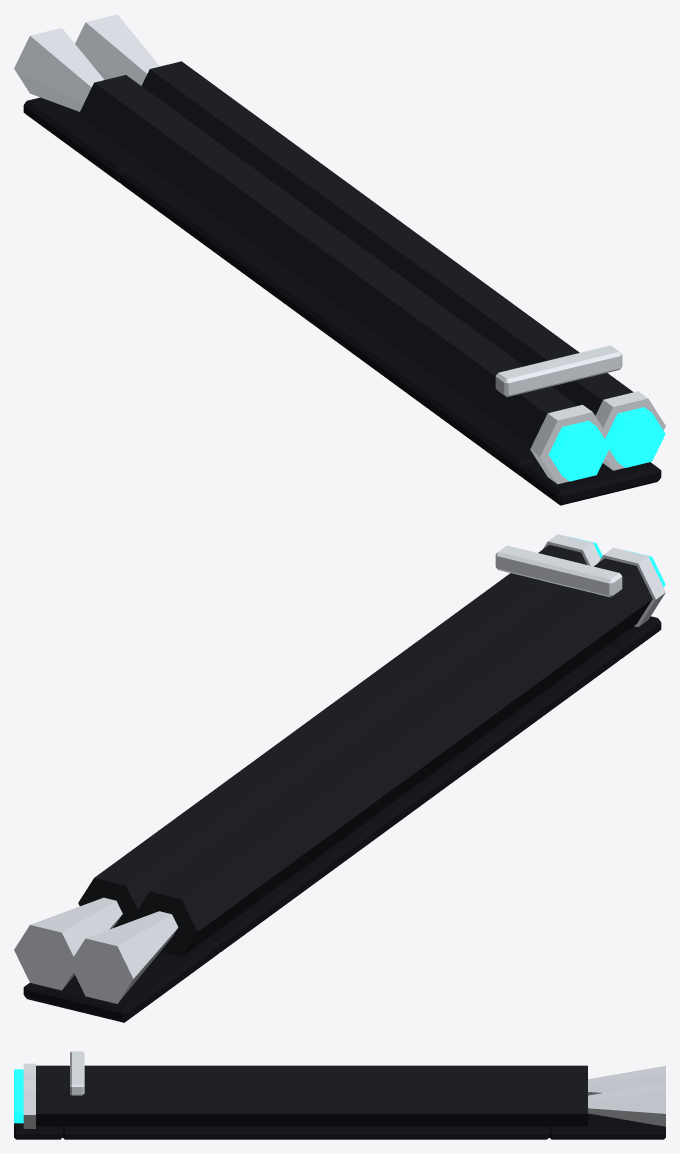
The model's file is rocket_twin.glb.
3 views of the same model, one above another, from view 1: azimuth 30°, elevation 25°; view 2: azimuth 150°, elevation 25°; view 3: azimuth 270°, elevation 25° (orthographic). The views are drawn at different scales.
Parts seen in each view (by area): view 1: rocket_twin_MID_deco_body, rocket_twin_MID_deco_trim, rocket_twin_TAIL_chrome, rocket_twin_HEAD_deco_neon, rocket_twin_TAIL_deco_body, rocket_twin_HEAD_chrome, rocket_twin_MID_chrome, rocket_twin_HEAD_deco_trim, rocket_twin_TAIL_deco_trim, rocket_twin_HEAD_deco_body; view 2: rocket_twin_MID_deco_body, rocket_twin_TAIL_chrome, rocket_twin_MID_deco_trim, rocket_twin_TAIL_deco_body, rocket_twin_TAIL_deco_trim, rocket_twin_MID_chrome, rocket_twin_HEAD_chrome, rocket_twin_HEAD_deco_body, rocket_twin_HEAD_deco_trim; view 3: rocket_twin_MID_deco_body, rocket_twin_MID_deco_trim, rocket_twin_TAIL_chrome, rocket_twin_TAIL_deco_body, rocket_twin_TAIL_deco_trim, rocket_twin_HEAD_deco_body, rocket_twin_HEAD_chrome, rocket_twin_HEAD_deco_trim, rocket_twin_MID_chrome, rocket_twin_HEAD_deco_neon.
Boxes of the visible parts, x1=… form: rocket_twin_MID_deco_body: x1=110, y1=85, x2=614, y2=456; rocket_twin_MID_deco_trim: x1=120, y1=169, x2=533, y2=476; rocket_twin_TAIL_chrome: x1=14, y1=14, x2=159, y2=111; rocket_twin_HEAD_deco_neon: x1=548, y1=407, x2=665, y2=481; rocket_twin_TAIL_deco_body: x1=78, y1=61, x2=213, y2=163; rocket_twin_HEAD_chrome: x1=530, y1=391, x2=665, y2=484; rocket_twin_MID_chrome: x1=495, y1=345, x2=622, y2=397; rocket_twin_HEAD_deco_trim: x1=521, y1=462, x2=661, y2=505; rocket_twin_TAIL_deco_trim: x1=23, y1=97, x2=132, y2=182; rocket_twin_HEAD_deco_body: x1=511, y1=378, x2=633, y2=467; rocket_twin_MID_deco_body: x1=126, y1=573, x2=630, y2=932; rocket_twin_TAIL_chrome: x1=14, y1=897, x2=178, y2=1003; rocket_twin_MID_deco_trim: x1=207, y1=645, x2=620, y2=952; rocket_twin_TAIL_deco_body: x1=78, y1=854, x2=229, y2=956; rocket_twin_TAIL_deco_trim: x1=23, y1=938, x2=219, y2=1022; rocket_twin_MID_chrome: x1=495, y1=545, x2=622, y2=597; rocket_twin_HEAD_chrome: x1=543, y1=534, x2=665, y2=627; rocket_twin_HEAD_deco_body: x1=538, y1=544, x2=652, y2=639; rocket_twin_HEAD_deco_trim: x1=608, y1=616, x2=661, y2=658; rocket_twin_MID_deco_body: x1=62, y1=1065, x2=549, y2=1126; rocket_twin_MID_deco_trim: x1=62, y1=1126, x2=549, y2=1139; rocket_twin_TAIL_chrome: x1=588, y1=1066, x2=665, y2=1126; rocket_twin_TAIL_deco_body: x1=549, y1=1065, x2=587, y2=1126; rocket_twin_TAIL_deco_trim: x1=549, y1=1113, x2=665, y2=1139; rocket_twin_HEAD_deco_body: x1=36, y1=1065, x2=62, y2=1126; rocket_twin_HEAD_chrome: x1=23, y1=1063, x2=35, y2=1128; rocket_twin_HEAD_deco_trim: x1=14, y1=1123, x2=62, y2=1139; rocket_twin_MID_chrome: x1=70, y1=1051, x2=84, y2=1095; rocket_twin_HEAD_deco_neon: x1=14, y1=1069, x2=23, y2=1123.
Bounding box in the file's own units: 0.1812 × 0.1305 × 1.34.
